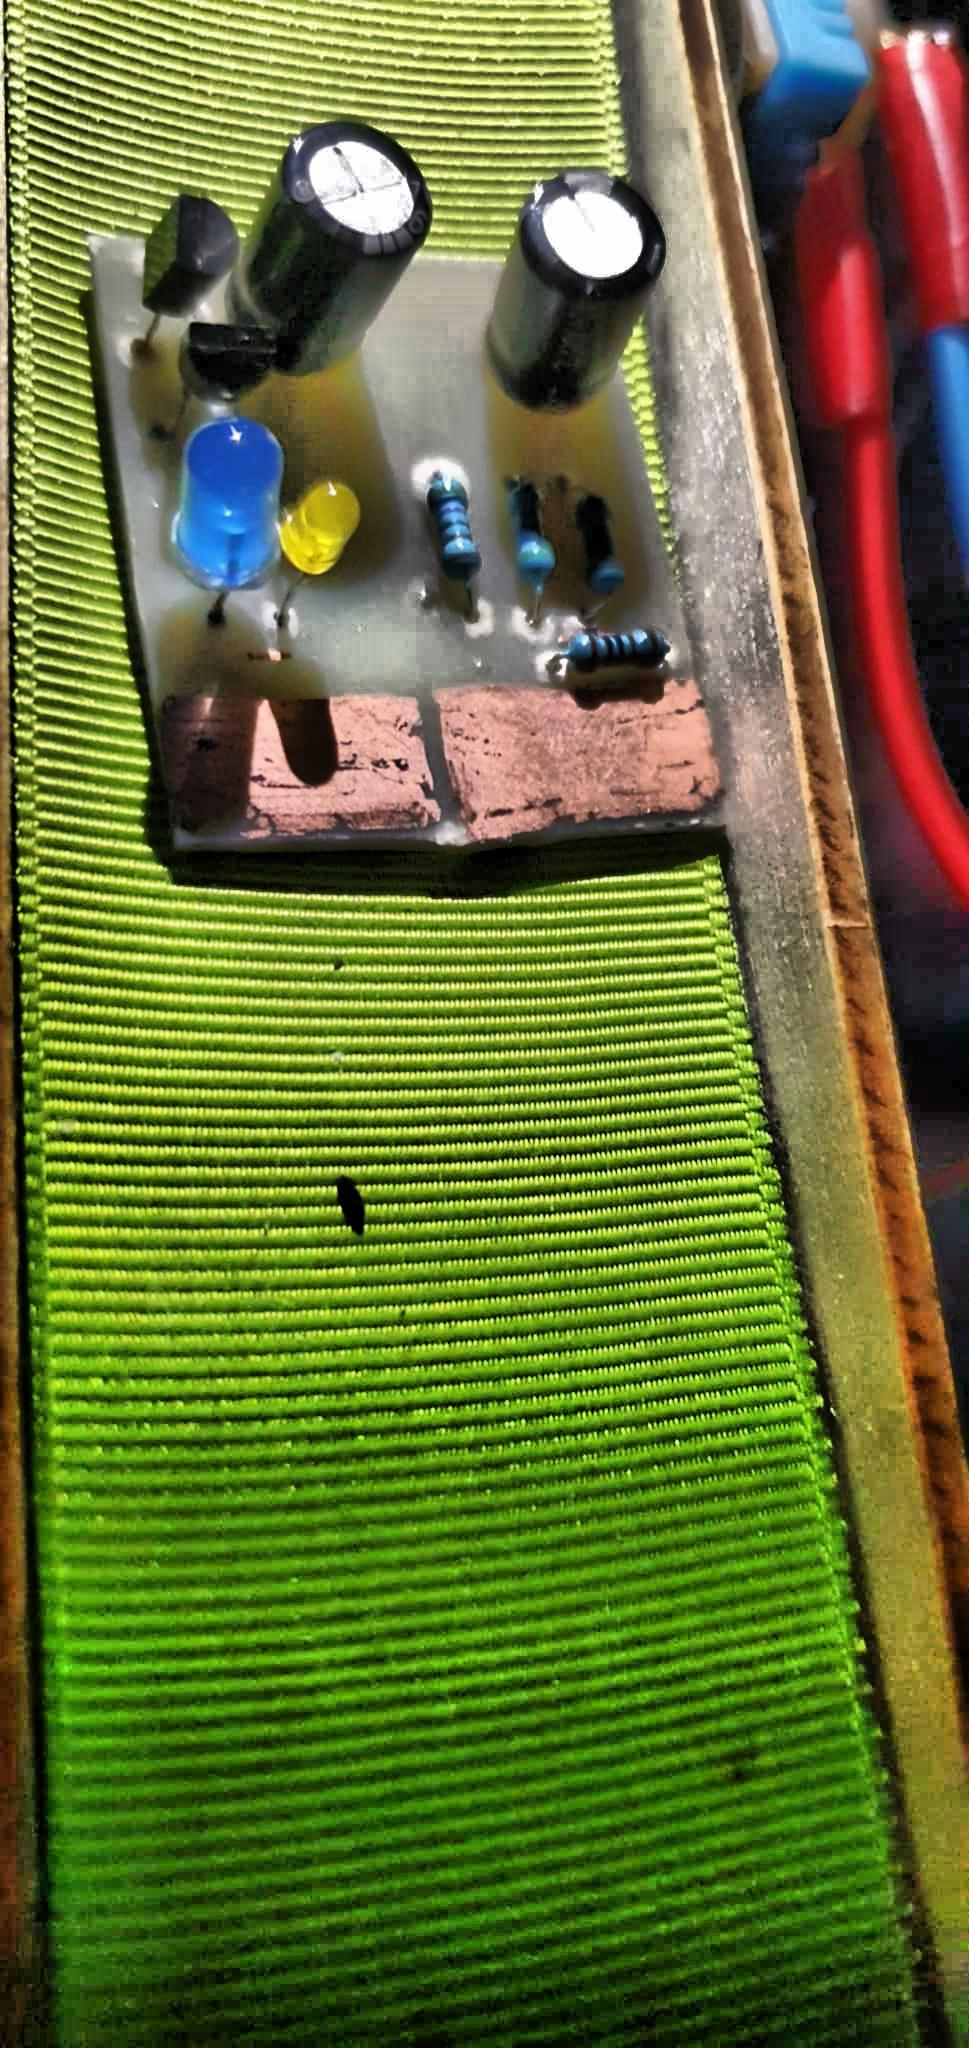IC: (432, 669, 734, 840), (142, 682, 451, 849)
